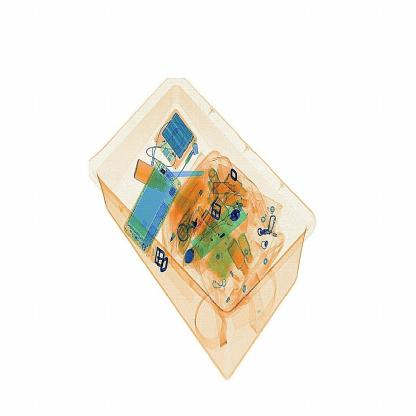pliers: (164, 162, 226, 186)
